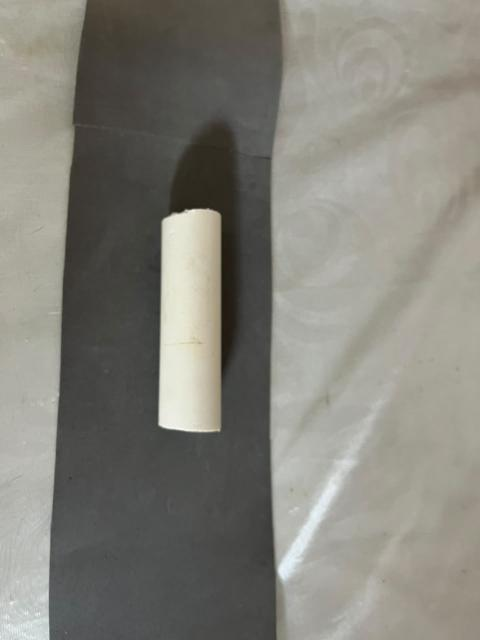PVC: (150, 198, 240, 459)
